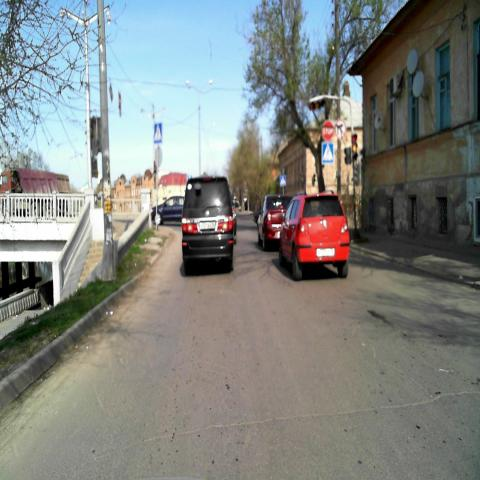3_18: (335, 118, 345, 138)
